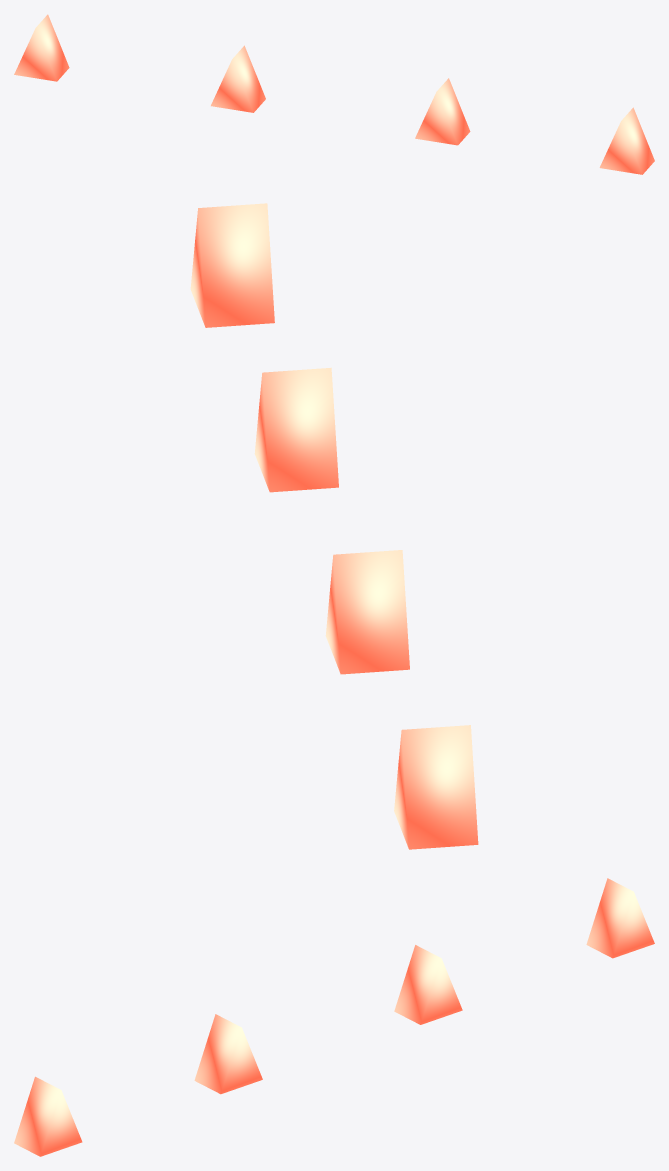
The model's file is cylinder.007_material.012_0_lev1.glb.
3 views of the same model, one above another, from view 1: azimuth 30°, elevation 25°; view 2: azimuth 150°, elevation 25°; view 3: azimuth 270°, elevation 25° (orthographic). The views are drawn at different scales.
Visible parts, largest first — view 1: cylinder.007_material.012_0_lev1; view 2: cylinder.007_material.012_0_lev1; view 3: cylinder.007_material.012_0_lev1.
Boxes of the visible parts, left/top/right/bottom form: cylinder.007_material.012_0_lev1: left=14, top=14, right=654, bottom=174; cylinder.007_material.012_0_lev1: left=190, top=203, right=478, bottom=849; cylinder.007_material.012_0_lev1: left=14, top=878, right=654, bottom=1156.
Size of the model in its own units: 24.3 by 2.98 by 29.04.
